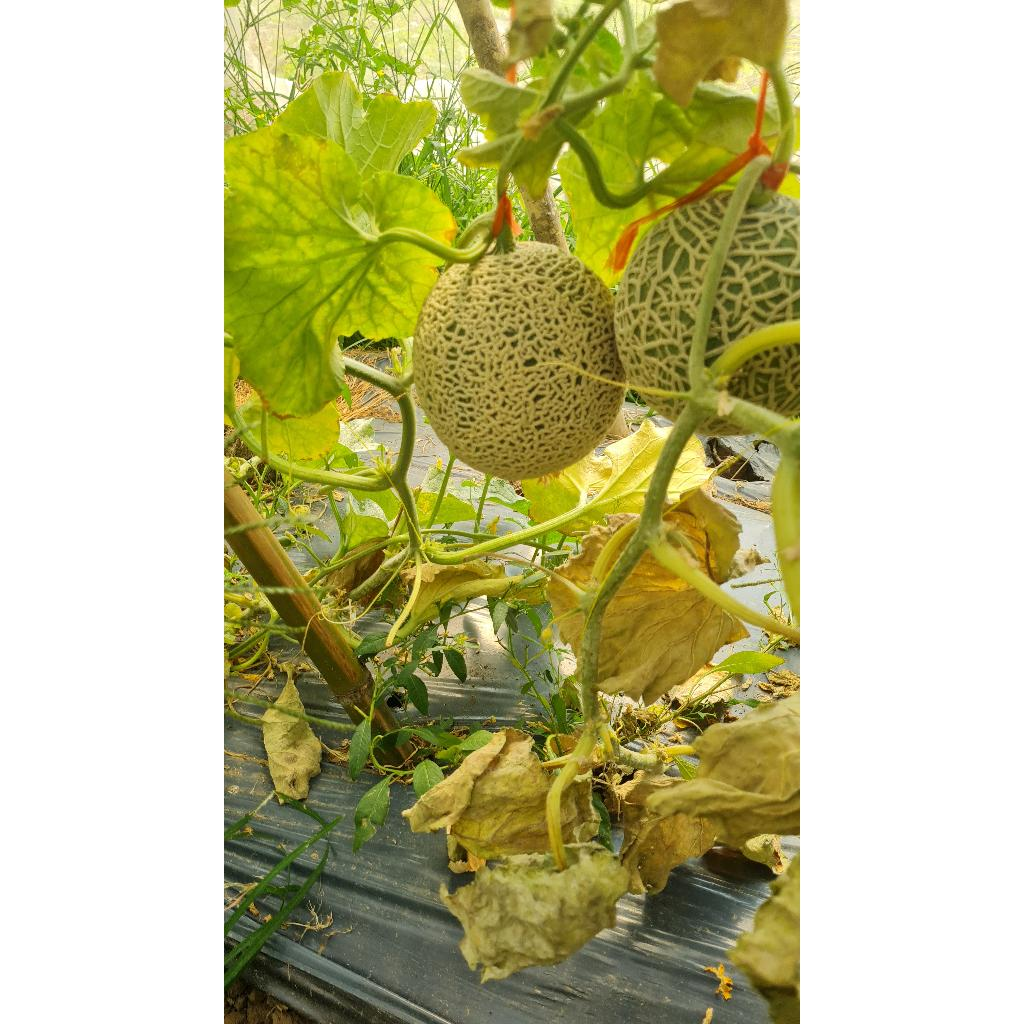melon: (414, 242, 624, 480), (614, 192, 732, 392), (706, 194, 800, 366), (728, 344, 800, 416)
